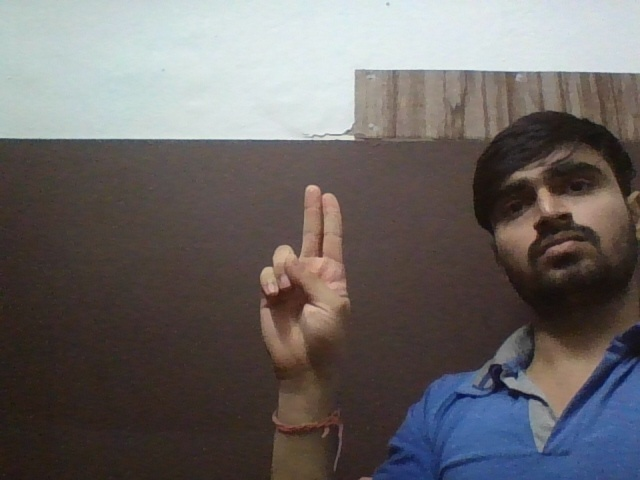U: (250, 180, 366, 371)
